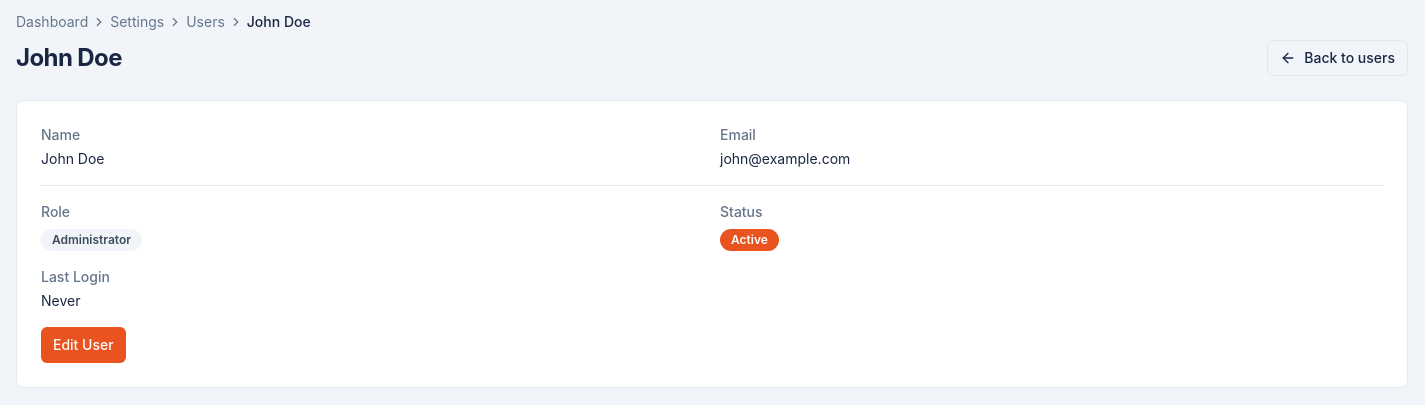
UserDetailView › shows edit form when Edit User button is clicked
Click the button "Edit User" at (83, 345), box x1=41 y1=327 x2=126 y2=363
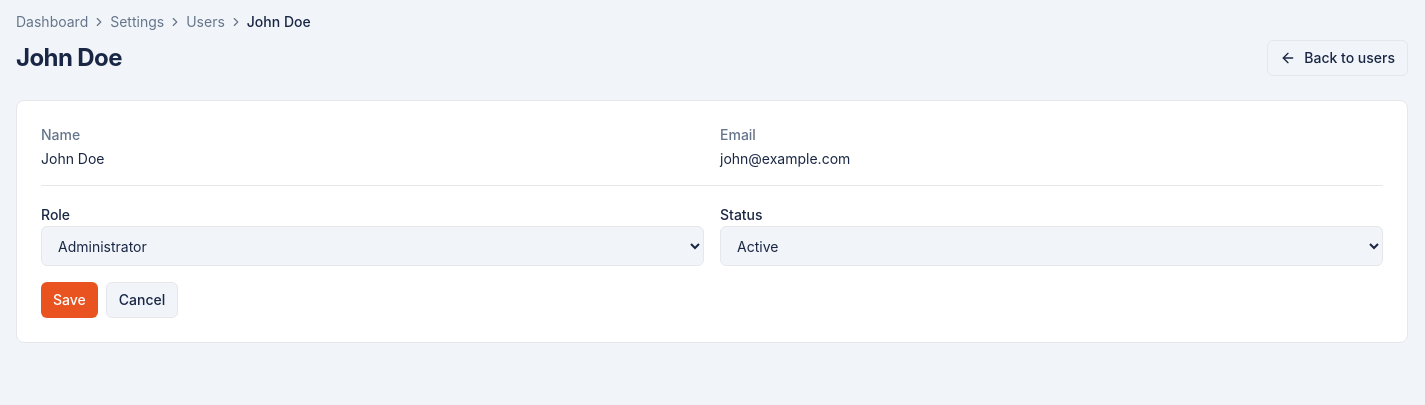
Result: the dropdown labelled "Role" is shown at x1=41 y1=226 x2=704 y2=266
Result: the dropdown labelled "Status" is shown at x1=720 y1=226 x2=1383 y2=266
